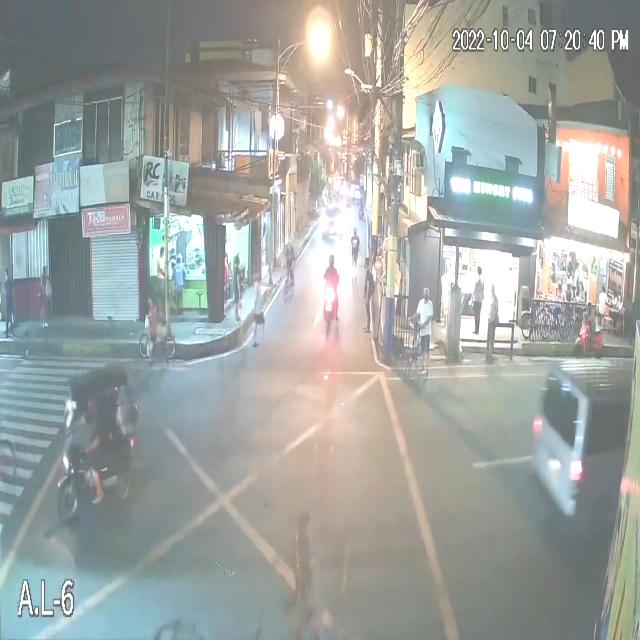Full-Faced: (326, 249, 336, 268)
